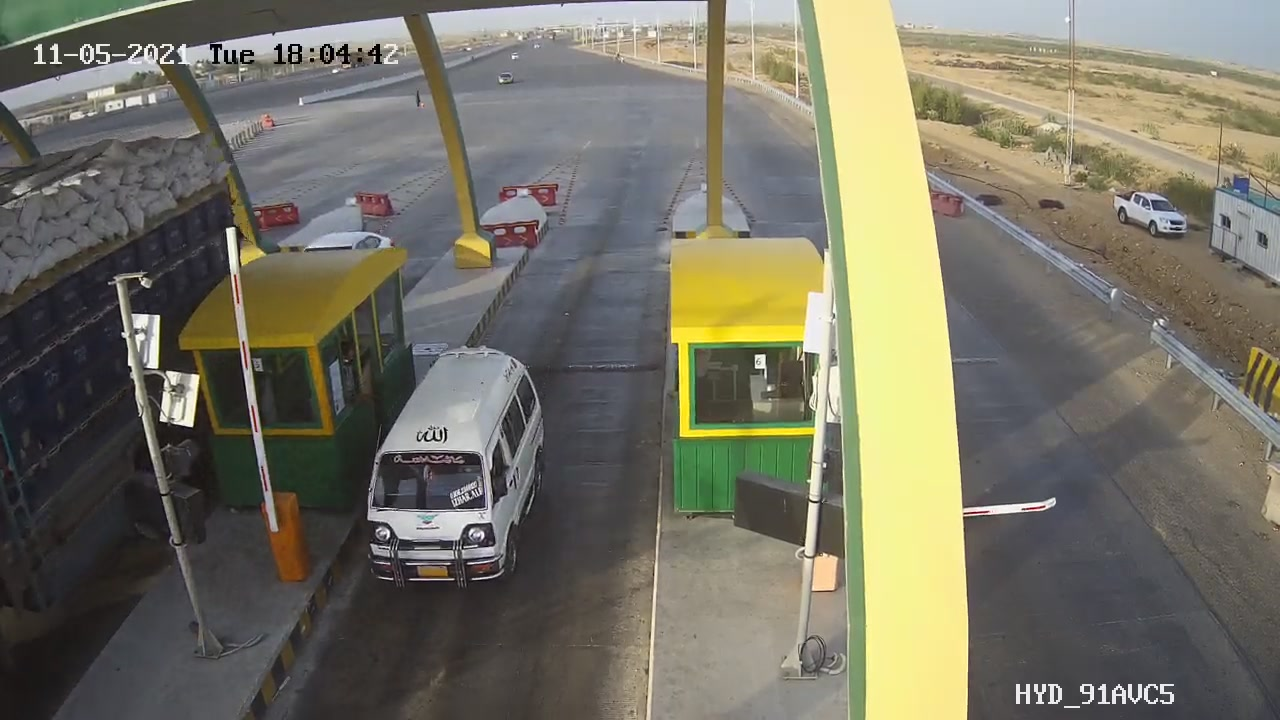F1: (353, 330, 566, 599)
